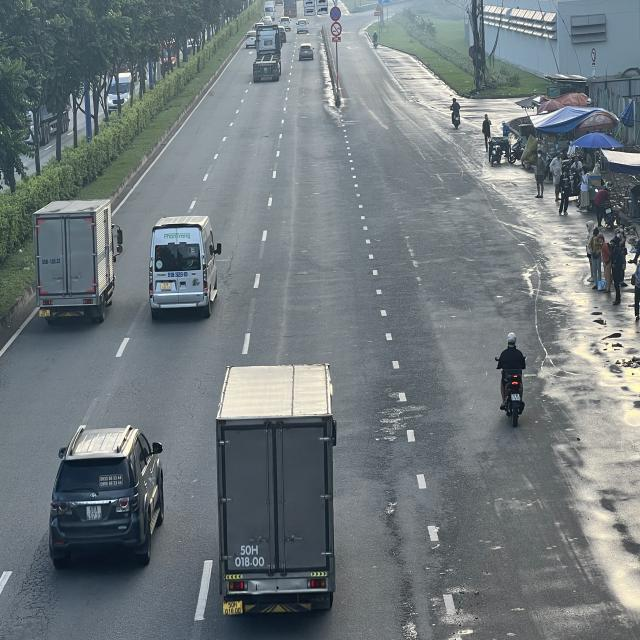car: (51, 425, 168, 566)
container: (254, 28, 285, 83)
truck: (218, 358, 338, 614), (33, 198, 123, 323)
van: (150, 213, 224, 316)
